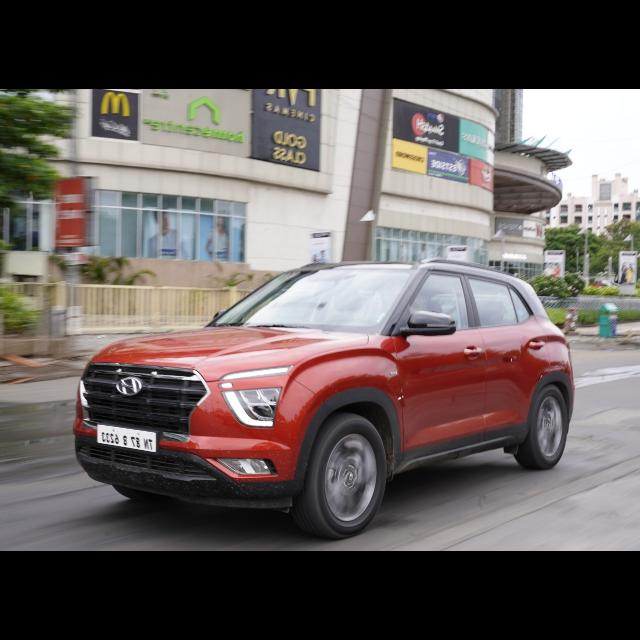vehicles: (75, 261, 583, 537)
